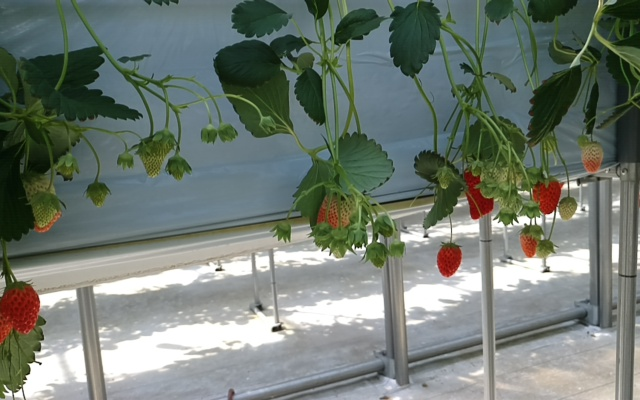GreenStrawberry: (18, 171, 61, 236), (313, 183, 360, 235), (478, 157, 508, 198), (139, 137, 167, 179), (30, 193, 58, 227), (498, 188, 524, 223), (579, 141, 604, 175), (87, 183, 109, 207), (558, 197, 577, 221), (535, 240, 554, 259)
MatureStrawberry: (3, 281, 43, 335), (462, 164, 496, 221), (435, 242, 464, 279), (533, 178, 561, 216), (517, 224, 541, 260)
